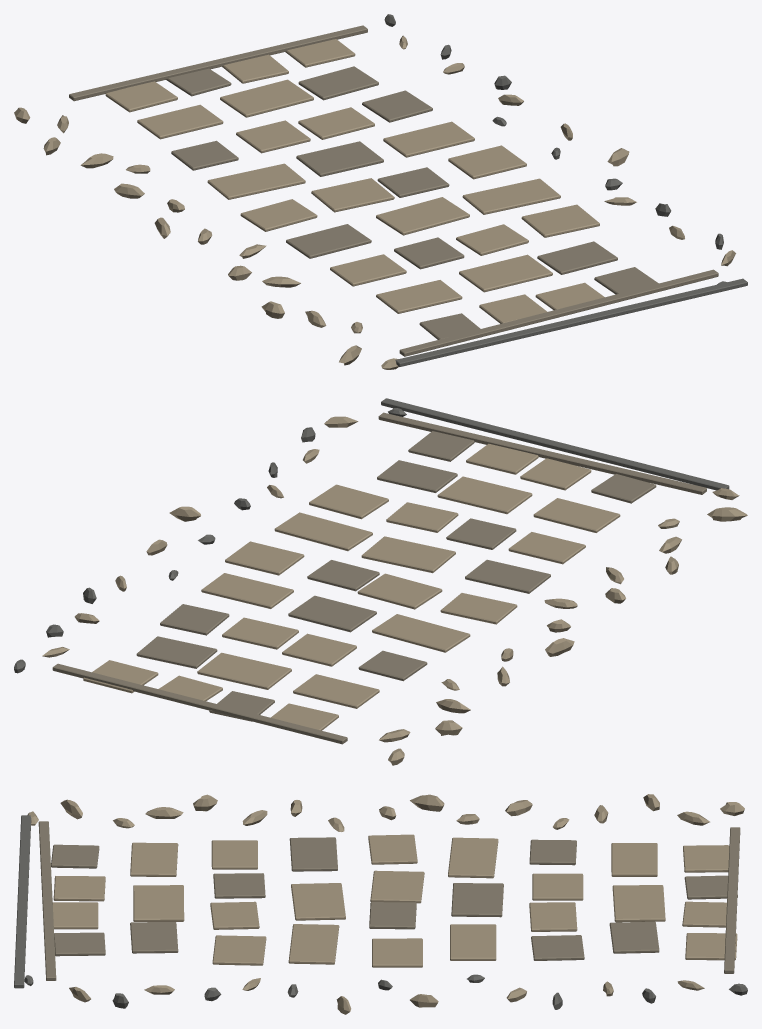
File: forecourt-causeway.glb
3 views of the same model, one above another, from view 1: azimuth 30°, elevation 25°; view 2: azimuth 150°, elevation 25°; view 3: azimuth 270°, elevation 25° (orthographic).
Parts seen in each view (by area): view 1: causeway_threshold_step_0, causeway_threshold_step_1, causeway_threshold_step_2, causeway_worn_slab_3_2, causeway_worn_slab_5_0, causeway_worn_slab_7_1, causeway_worn_slab_1_1, causeway_worn_slab_3_1, causeway_worn_slab_5_2, causeway_worn_slab_5_1, causeway_worn_slab_4_1, causeway_worn_slab_7_0 (+23 smaller); view 2: causeway_threshold_step_0, causeway_threshold_step_1, causeway_threshold_step_2, causeway_worn_slab_3_1, causeway_worn_slab_1_1, causeway_worn_slab_3_2, causeway_worn_slab_7_1, causeway_worn_slab_5_0, causeway_worn_slab_5_2, causeway_worn_slab_5_1, causeway_worn_slab_4_1, causeway_worn_slab_1_0 (+23 smaller); view 3: causeway_worn_slab_3_1, causeway_worn_slab_7_1, causeway_worn_slab_3_2, causeway_worn_slab_5_0, causeway_threshold_step_0, causeway_worn_slab_1_1, causeway_threshold_step_1, causeway_worn_slab_5_1, causeway_worn_slab_5_2, causeway_worn_slab_4_1, causeway_worn_slab_3_0, causeway_worn_slab_1_0 (+24 smaller).
Boxes of the visible parts, x1,y1,x2,y2 form: causeway_threshold_step_0: [395, 278, 747, 366]; causeway_threshold_step_1: [399, 269, 718, 356]; causeway_threshold_step_2: [69, 25, 367, 101]; causeway_worn_slab_3_2: [462, 178, 560, 214]; causeway_worn_slab_5_0: [207, 163, 305, 199]; causeway_worn_slab_7_1: [220, 79, 313, 117]; causeway_worn_slab_1_1: [459, 254, 552, 292]; causeway_worn_slab_3_1: [376, 197, 469, 235]; causeway_worn_slab_5_2: [383, 121, 474, 157]; causeway_worn_slab_5_1: [296, 141, 383, 176]; causeway_worn_slab_4_1: [311, 178, 394, 212]; causeway_worn_slab_7_0: [137, 104, 223, 139]; causeway_threshold_step_0: [381, 398, 729, 490]; causeway_threshold_step_1: [378, 412, 706, 494]; causeway_threshold_step_2: [52, 663, 347, 744]; causeway_worn_slab_3_1: [361, 536, 455, 573]; causeway_worn_slab_1_1: [437, 476, 532, 514]; causeway_worn_slab_3_2: [274, 512, 372, 551]; causeway_worn_slab_7_1: [197, 652, 291, 689]; causeway_worn_slab_5_0: [372, 614, 470, 652]; causeway_worn_slab_5_2: [201, 573, 293, 608]; causeway_worn_slab_5_1: [288, 595, 376, 632]; causeway_worn_slab_4_1: [357, 573, 442, 609]; causeway_worn_slab_1_0: [533, 498, 620, 532]; causeway_worn_slab_3_1: [291, 883, 345, 920]; causeway_worn_slab_7_1: [612, 885, 665, 922]; causeway_worn_slab_3_2: [288, 924, 339, 964]; causeway_worn_slab_5_0: [448, 837, 498, 878]; causeway_threshold_step_0: [14, 815, 31, 988]; causeway_worn_slab_1_1: [133, 885, 184, 921]; causeway_threshold_step_1: [38, 821, 56, 980]; causeway_worn_slab_5_1: [451, 883, 503, 917]; causeway_worn_slab_5_2: [450, 924, 496, 960]; causeway_worn_slab_4_1: [370, 870, 424, 903]; causeway_worn_slab_3_0: [289, 837, 337, 871]; causeway_worn_slab_1_0: [130, 842, 178, 876].
Size of the model in its own units: 9 by 0.2918 by 13.
